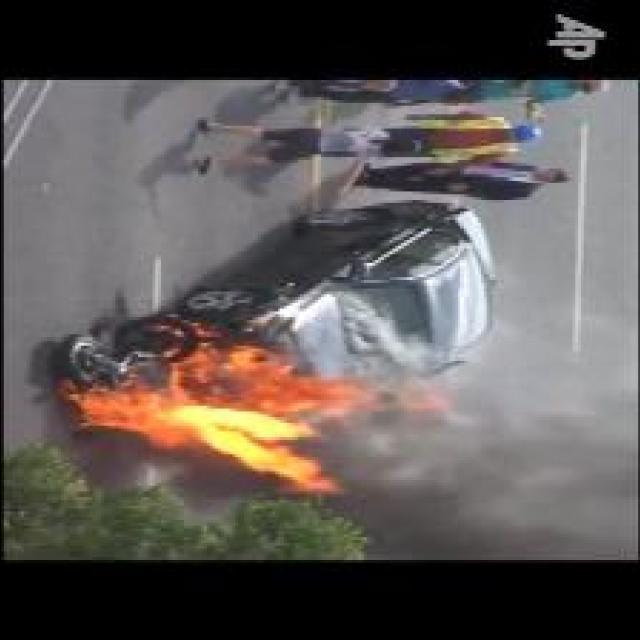Fire: (66, 333, 446, 493)
